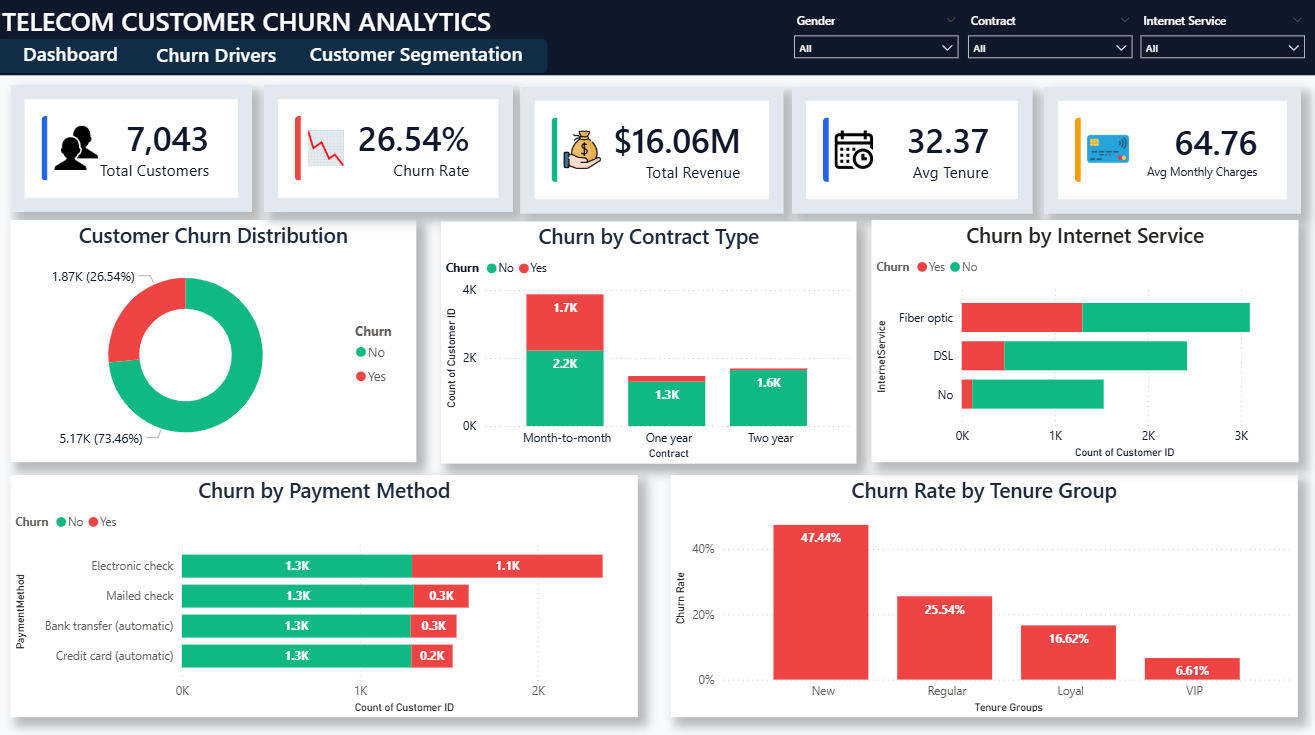

What the dashboard file says about the page in this screenshot:
{"tool":"powerbi","page":{"name":"Executive Dashboard","canvas":[1366,768],"ordinal":0},"visuals":[{"type":"shape","box":[0,0,1366.2,768.6],"z":0},{"type":"textbox","box":[0,0,1366.2,80],"z":1000},{"type":"cardVisual","fields":{"Data":["WA_Fn-UseC_-Telco-Customer-Churn.Total Customers"]},"box":[14.1,90.4,250,131],"z":2000},{"type":"slicer","fields":{"Values":["WA_Fn-UseC_-Telco-Customer-Churn.gender"]},"box":[820,15.4,180,55],"z":3000},{"type":"donutChart","title":"Customer Churn Distribution","fields":{"Category":["WA_Fn-UseC_-Telco-Customer-Churn.Churn"],"Y":["CountNonNull(WA_Fn-UseC_-Telco-Customer-Churn.Customer ID)"]},"box":[13.8,229.7,419.7,250.4],"z":4000},{"type":"cardVisual","fields":{"Data":["WA_Fn-UseC_-Telco-Customer-Churn.Churn Rate %"]},"box":[276.3,89.8,257.3,131.3],"z":5000},{"type":"cardVisual","fields":{"Data":["WA_Fn-UseC_-Telco-Customer-Churn.Total Revenue"]},"box":[542.3,91.5,272,131.3],"z":6000},{"type":"cardVisual","fields":{"Data":["WA_Fn-UseC_-Telco-Customer-Churn.Avg Tenure"]},"box":[822.1,91.5,248.7,131.3],"z":7000},{"type":"cardVisual","fields":{"Data":["WA_Fn-UseC_-Telco-Customer-Churn.Avg Monthly Charges"]},"box":[1082.9,91.5,266,131.3],"z":8000},{"type":"columnChart","title":"Churn by Contract Type","fields":{"Category":["WA_Fn-UseC_-Telco-Customer-Churn.Contract"],"Series":["WA_Fn-UseC_-Telco-Customer-Churn.Churn"],"Y":["Count(WA_Fn-UseC_-Telco-Customer-Churn.Customer ID)"]},"box":[459.4,231.4,430.1,250.4],"z":9000},{"type":"barChart","title":"Churn by Payment Method","fields":{"Category":["WA_Fn-UseC_-Telco-Customer-Churn.PaymentMethod"],"Series":["WA_Fn-UseC_-Telco-Customer-Churn.Churn"],"Y":["Count(WA_Fn-UseC_-Telco-Customer-Churn.Customer ID)"]},"box":[13.8,494,649.4,250.4],"z":10000},{"type":"clusteredColumnChart","title":"Churn Rate by Tenure Group","fields":{"Category":["WA_Fn-UseC_-Telco-Customer-Churn.Tenure Groups"],"Y":["WA_Fn-UseC_-Telco-Customer-Churn.Churn Rate"]},"box":[697.8,494,649.4,250.4],"z":11000},{"type":"slicer","fields":{"Values":["WA_Fn-UseC_-Telco-Customer-Churn.Contract"]},"box":[1000,15.4,180,55],"z":12000},{"type":"slicer","fields":{"Values":["WA_Fn-UseC_-Telco-Customer-Churn.InternetService"]},"box":[1178.3,15,180,56.7],"z":13000},{"type":"shape","box":[0,41.5,570,36.3],"z":13500},{"type":"barChart","title":"Churn by Internet Service","fields":{"Category":["WA_Fn-UseC_-Telco-Customer-Churn.InternetService"],"Series":["WA_Fn-UseC_-Telco-Customer-Churn.Churn"],"Y":["Count(WA_Fn-UseC_-Telco-Customer-Churn.Customer ID)"]},"box":[905,229.7,442.2,250.4],"z":14000},{"type":"actionButton","box":[13.8,38,124.4,39.7],"z":15000},{"type":"actionButton","box":[140,39.3,174.3,39.3],"z":16000},{"type":"actionButton","box":[317.8,38,231.4,39.7],"z":17000}]}

Visuals, with their boxes in screenshot pixels (x1, y1, x2, y2), scaled from the page's 1366x768 canvas onto the 1315x735 screenshot:
shape: (0,0,1314,734)
textbox: (0,0,1314,77)
cardVisual - WA_Fn-UseC_-Telco-Customer-Churn.Total Customers: (14,87,254,212)
slicer - WA_Fn-UseC_-Telco-Customer-Churn.gender: (789,15,963,67)
"Customer Churn Distribution" donutChart: (13,220,417,459)
cardVisual - WA_Fn-UseC_-Telco-Customer-Churn.Churn Rate %: (266,86,514,212)
cardVisual - WA_Fn-UseC_-Telco-Customer-Churn.Total Revenue: (522,88,784,213)
cardVisual - WA_Fn-UseC_-Telco-Customer-Churn.Avg Tenure: (791,88,1031,213)
cardVisual - WA_Fn-UseC_-Telco-Customer-Churn.Avg Monthly Charges: (1042,88,1299,213)
"Churn by Contract Type" columnChart: (442,221,856,461)
"Churn by Payment Method" barChart: (13,473,638,712)
"Churn Rate by Tenure Group" clusteredColumnChart: (672,473,1297,712)
slicer - WA_Fn-UseC_-Telco-Customer-Churn.Contract: (963,15,1136,67)
slicer - WA_Fn-UseC_-Telco-Customer-Churn.InternetService: (1134,14,1308,69)
shape: (0,40,549,74)
"Churn by Internet Service" barChart: (871,220,1297,459)
actionButton: (13,36,133,74)
actionButton: (135,38,303,75)
actionButton: (306,36,529,74)
